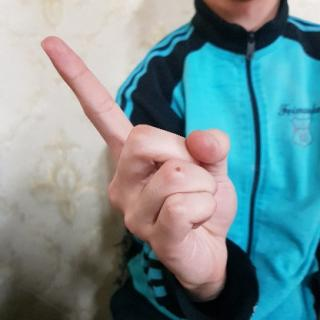RAA: (34, 29, 248, 293)
